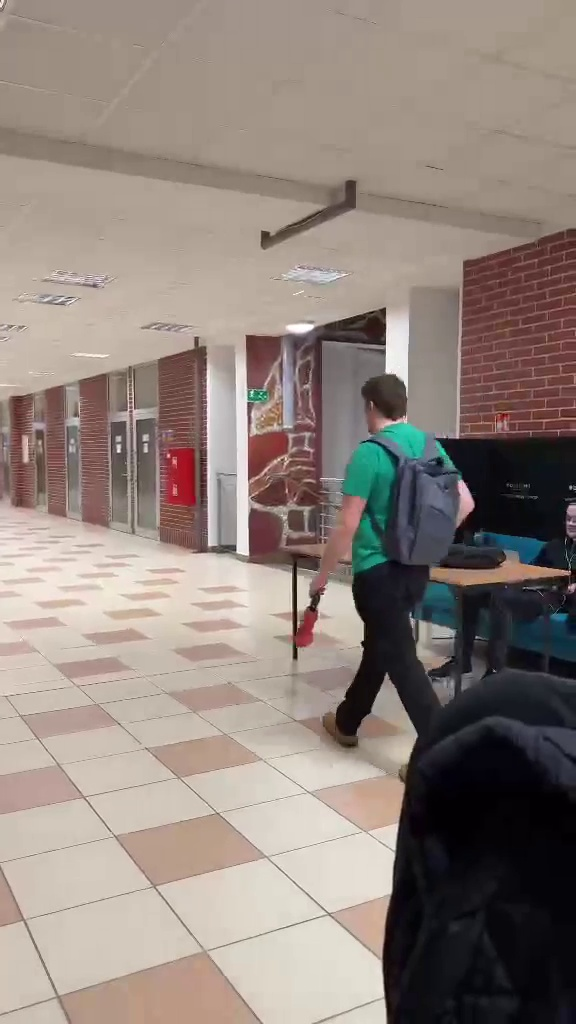no vest: (295, 379, 475, 742)
